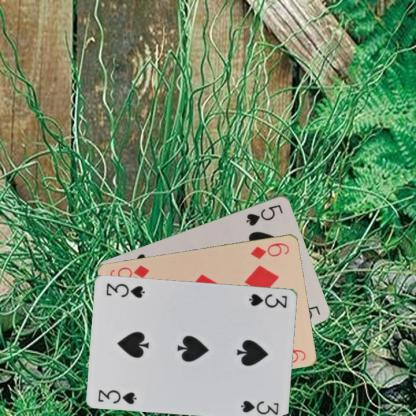3s: (96, 386, 138, 405), (246, 291, 288, 309)
5s: (244, 202, 284, 227)
6d: (248, 240, 290, 260)
